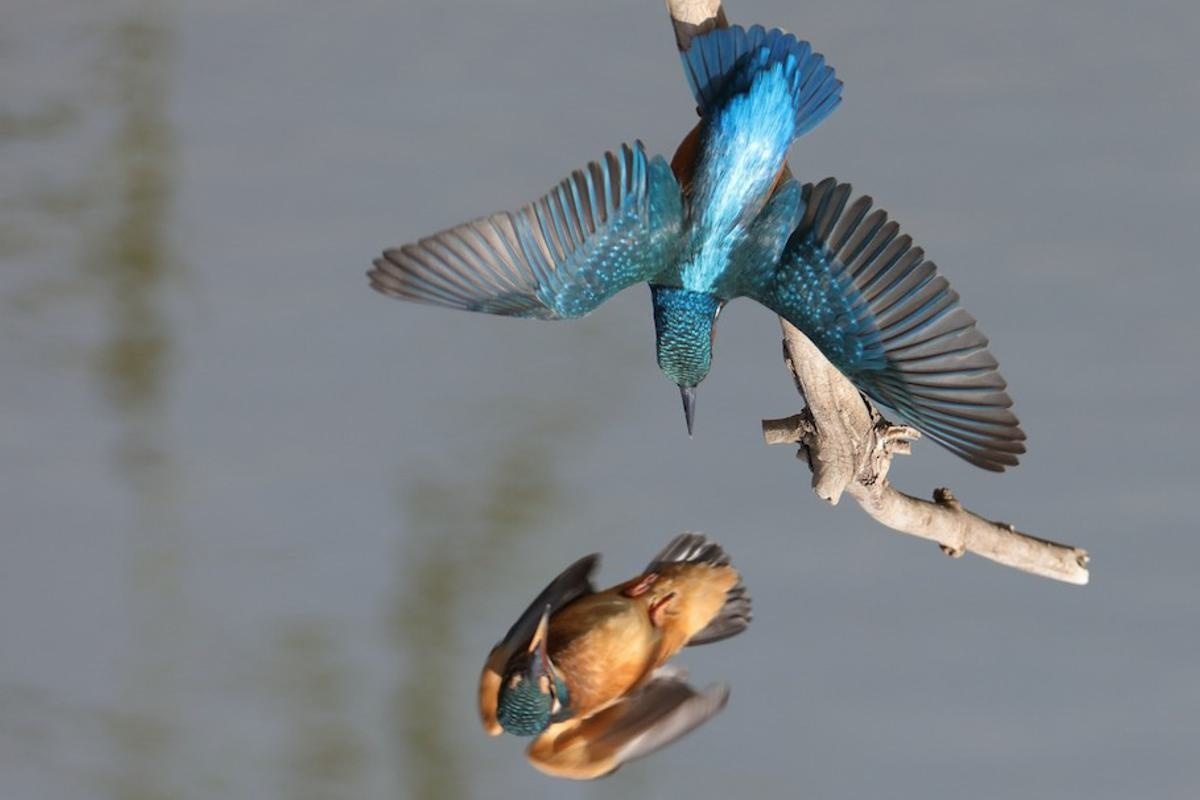kingfisher: (363, 22, 1073, 479), (448, 522, 773, 790)
